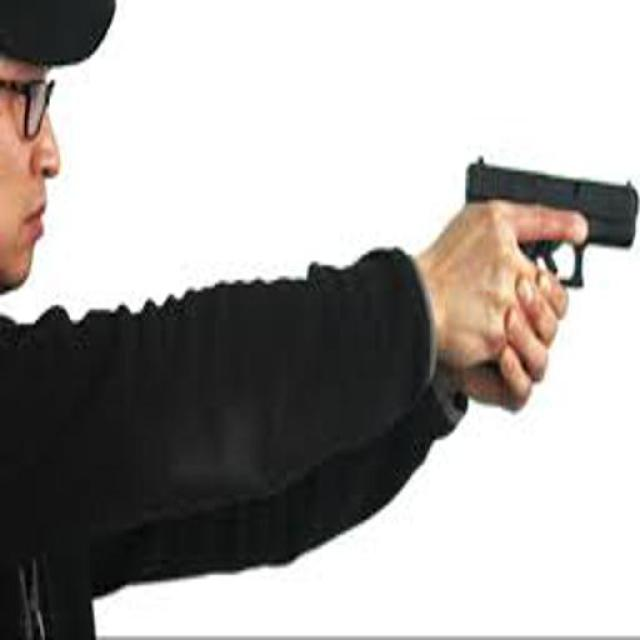pistol: (462, 145, 640, 381)
